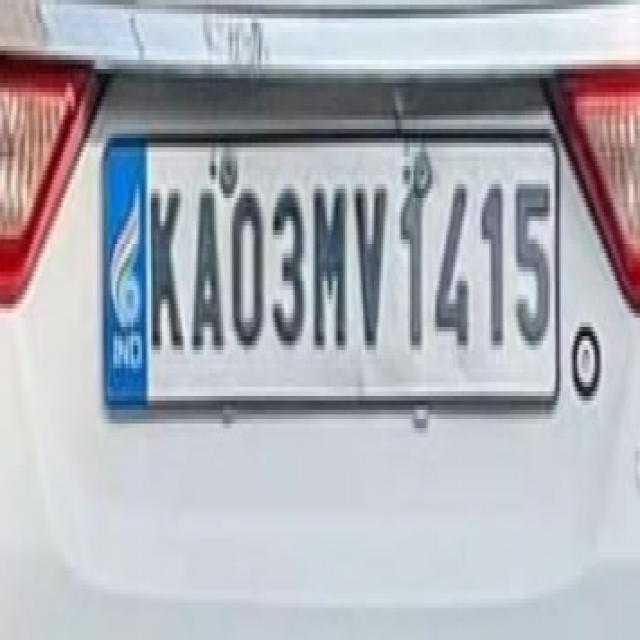0: (228, 184, 266, 348)
1: (476, 165, 508, 352), (398, 172, 429, 364)
3: (269, 174, 309, 360)
4: (427, 173, 476, 369)
5: (511, 168, 553, 359)
A: (186, 183, 228, 355)
K: (147, 174, 184, 353)
M: (311, 170, 351, 356)
V: (350, 168, 390, 358)
